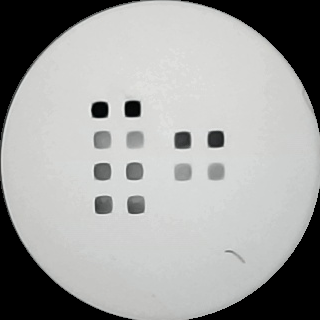检查点: (121, 98, 145, 121), (90, 160, 114, 183), (124, 129, 147, 152), (90, 129, 114, 151), (124, 161, 147, 183), (205, 162, 229, 183), (92, 195, 115, 216), (125, 195, 148, 216), (89, 99, 111, 119), (173, 130, 193, 151), (206, 129, 226, 150), (174, 163, 194, 183)
